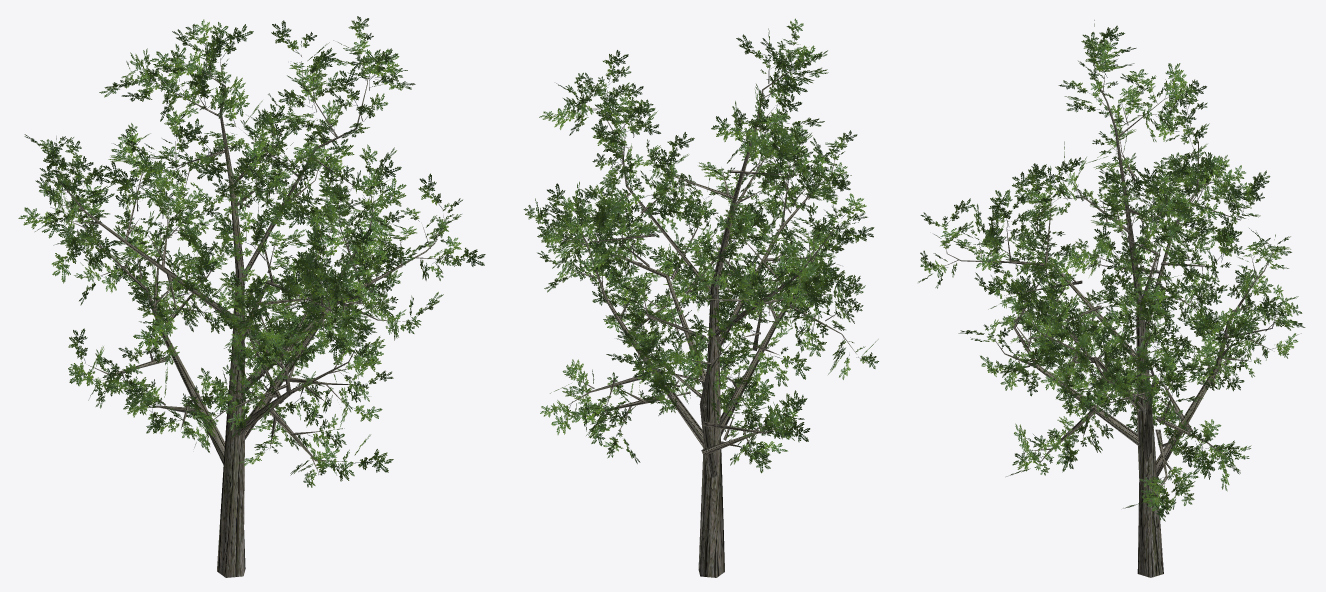
The model's file is tree_LOD2.glb.
3 views of the same model, side by side, from view 1: azimuth 30°, elevation 25°; view 2: azimuth 150°, elevation 25°; view 3: azimuth 270°, elevation 25° (orthographic). The views are drawn at different scales.
Visible parts, largest first — view 1: Leaves_LOD2, Branches_LOD2; view 2: Leaves_LOD2, Branches_LOD2; view 3: Leaves_LOD2, Branches_LOD2.
Part boxes in pixels (<box>): Leaves_LOD2: <box>18,16,485,487</box>; Branches_LOD2: <box>55,49,444,577</box>; Leaves_LOD2: <box>523,18,878,473</box>; Branches_LOD2: <box>544,45,856,577</box>; Leaves_LOD2: <box>918,20,1305,521</box>; Branches_LOD2: <box>941,48,1281,577</box>.
Bounding box in the file's own units: 60.93 × 84.71 × 57.64.
Materials: 2 (2 with a texture image).
